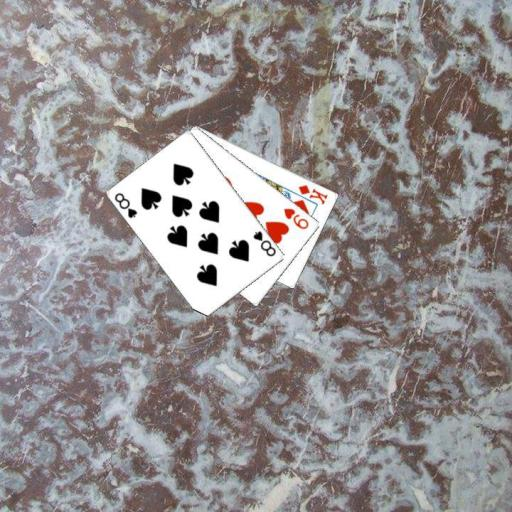8S: (250, 228, 278, 258), (112, 189, 139, 220)
9H: (281, 205, 311, 230)
KD: (295, 182, 329, 207)
